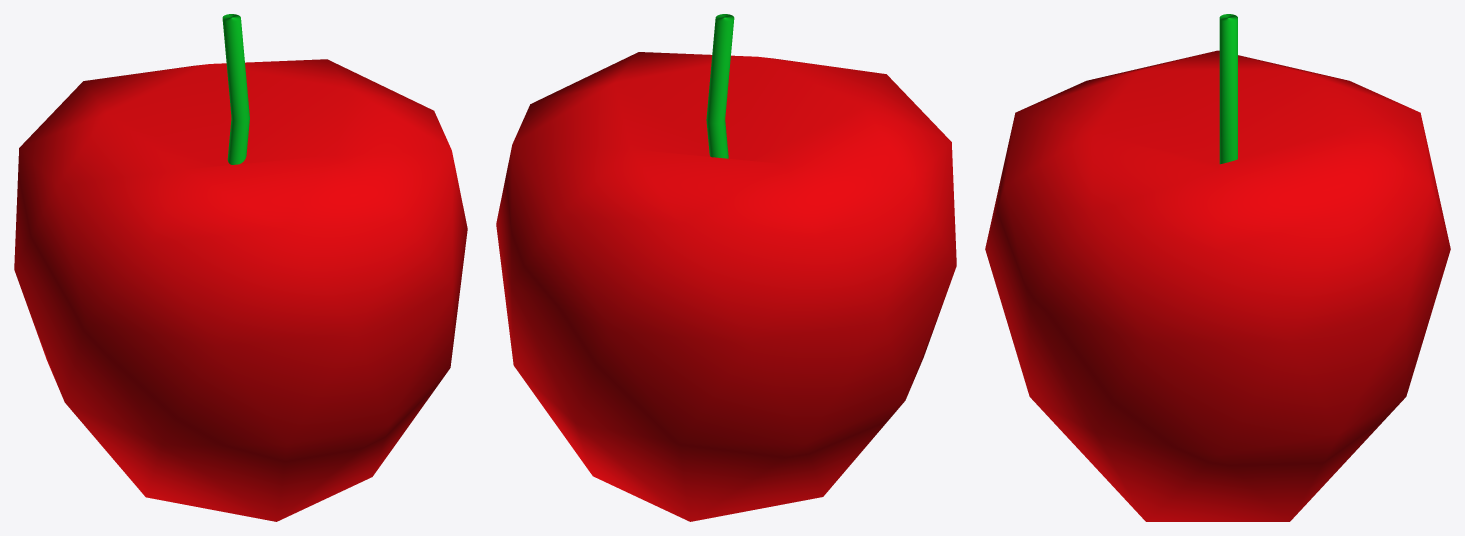
The model's file is SmoothApple.fbx.
The picture shows the model from 3 angles, left to right: view 1: azimuth 30°, elevation 25°; view 2: azimuth 150°, elevation 25°; view 3: azimuth 270°, elevation 25°; orthographic projection.
Parts seen in each view (by area): view 1: Icosphere, Cylinder; view 2: Icosphere, Cylinder; view 3: Icosphere, Cylinder.
Boxes of the visible parts, x1,y1,x2,y2 form: Icosphere: (14,59,467,521); Cylinder: (222,14,249,164); Icosphere: (496,52,956,521); Cylinder: (706,14,734,158); Icosphere: (985,50,1450,521); Cylinder: (1219,14,1237,164).
Size of the model in its own units: 191 by 216 by 200.
